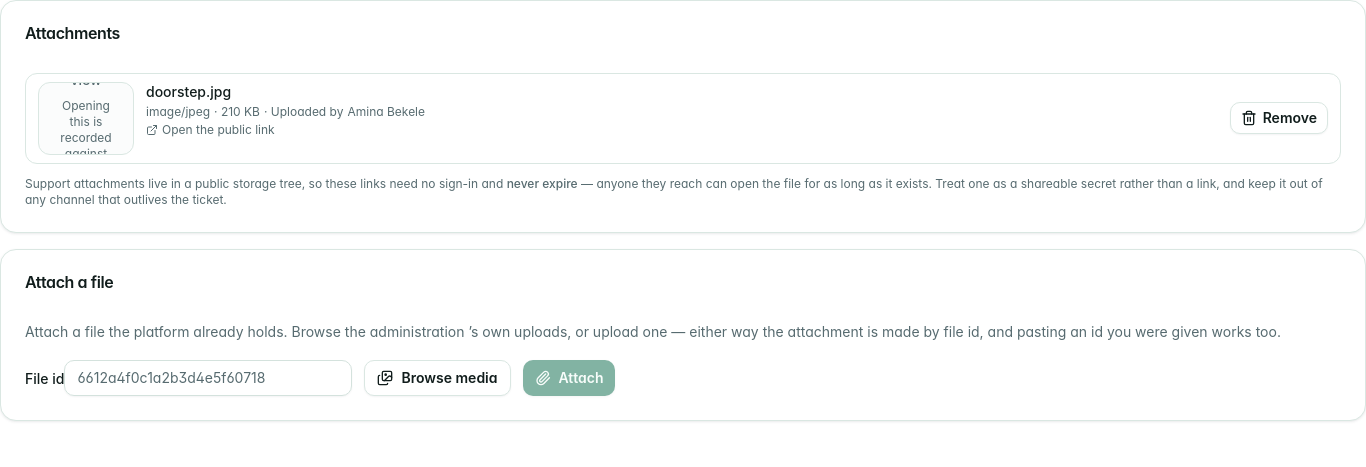
Test: the preview before the write › asks for nothing while the id is incomplete
Type "6612a4f0" into the field labelled "File id". click: (208, 378)
box: [64, 360, 352, 396]
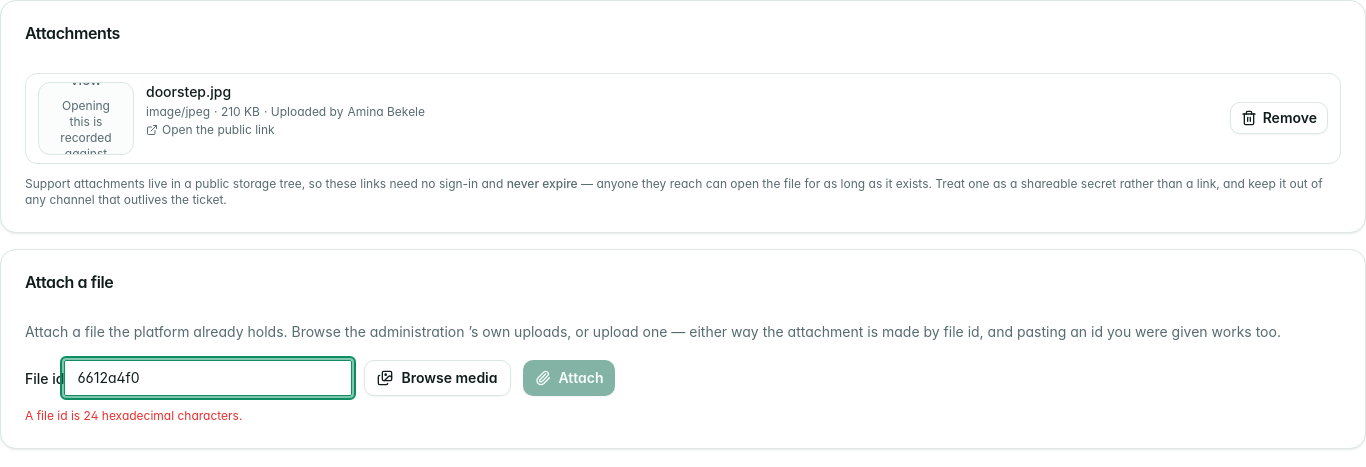
Expected: the text "A file id is 24 hexadecimal characters." is shown, [25, 408, 242, 422]
